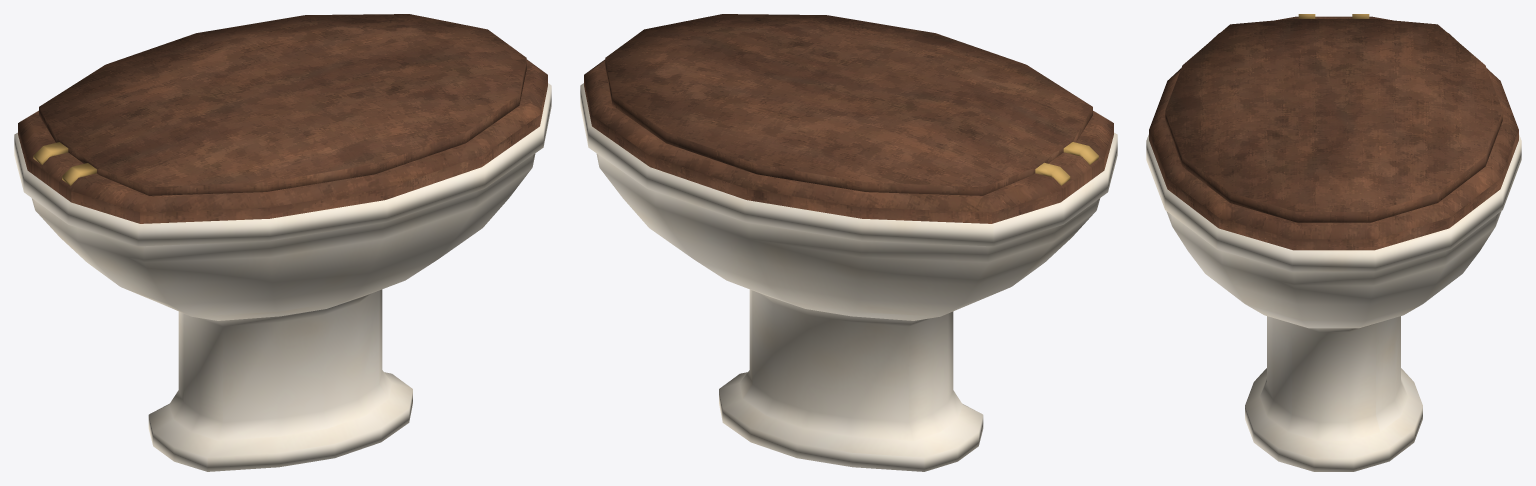
Rendered from 장애물_닫힌대변기.fbx.
The picture shows the model from 3 angles, left to right: view 1: azimuth 30°, elevation 25°; view 2: azimuth 150°, elevation 25°; view 3: azimuth 270°, elevation 25°; orthographic projection. The views are drawn at different scales.
Parts seen in each view (by area): view 1: 닫힌대변기; view 2: 닫힌대변기; view 3: 닫힌대변기.
Part boxes in pixels (left/top/right/bottom): 닫힌대변기: left=14, top=14, right=551, bottom=471; 닫힌대변기: left=580, top=14, right=1117, bottom=471; 닫힌대변기: left=1146, top=14, right=1521, bottom=471.
Bounding box in the file's own units: 59.73 × 39.93 × 42.53.
1 material, 1 textured.
